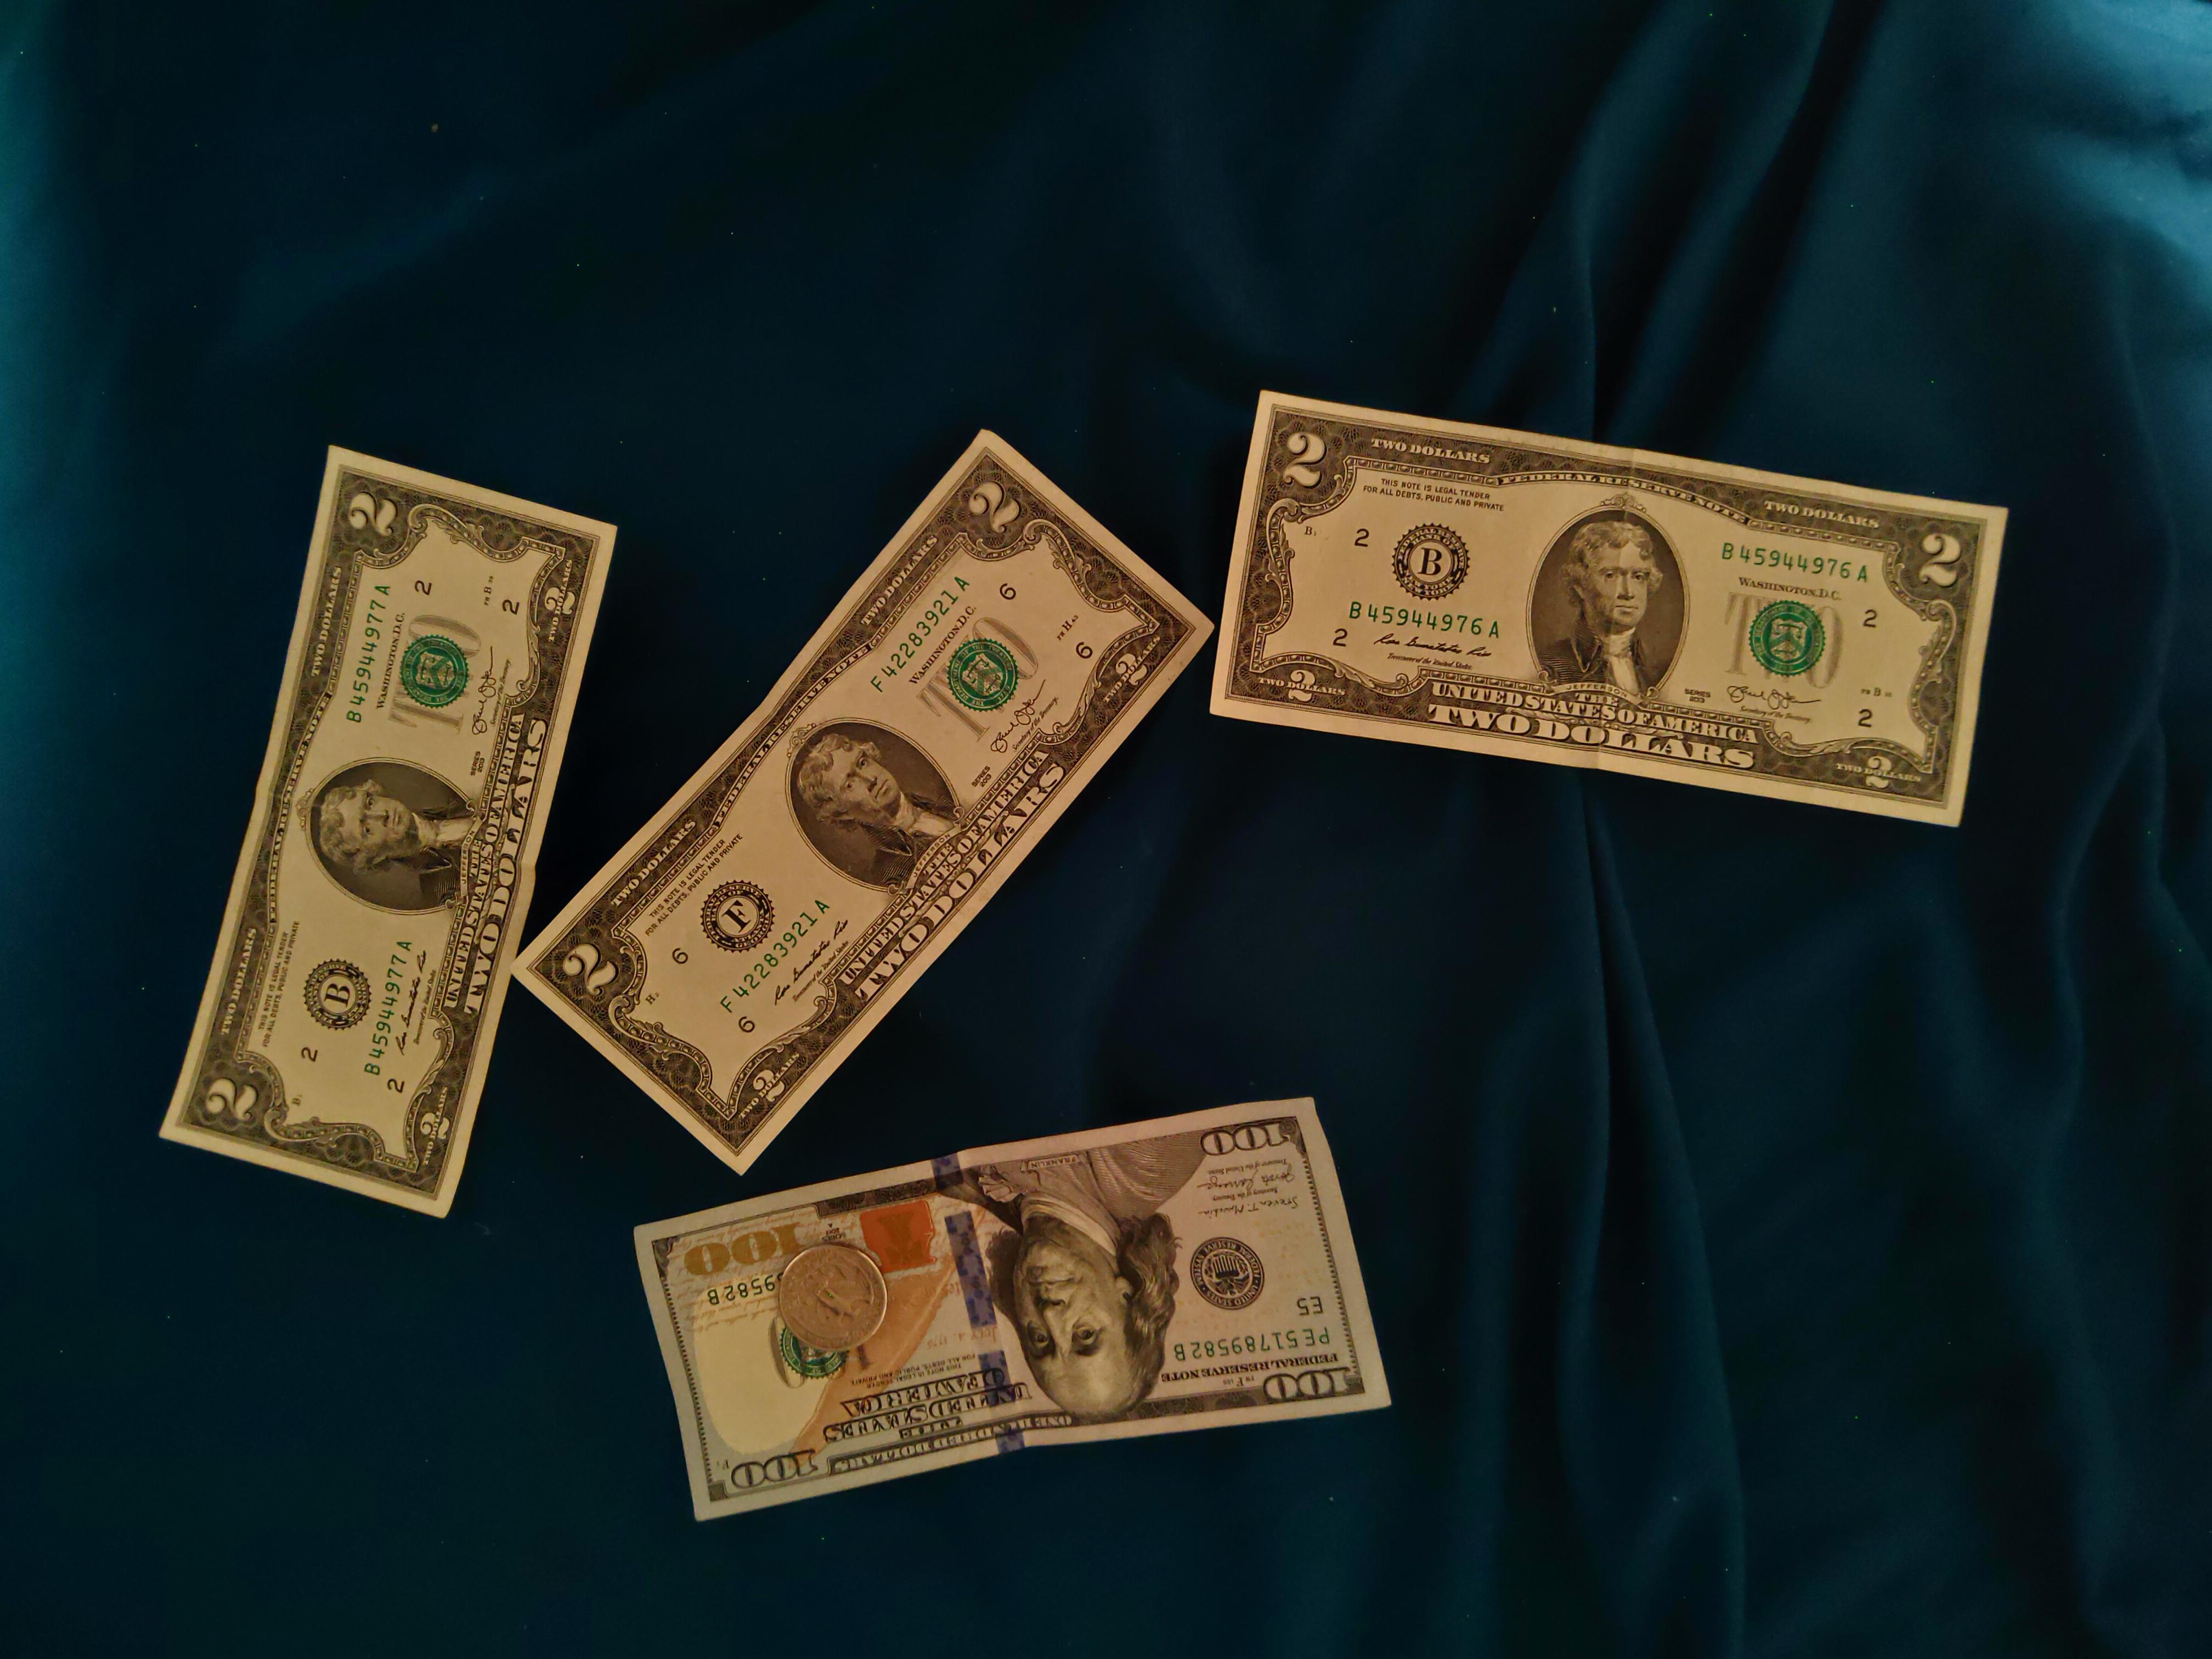HundredBill: (632, 1094, 1395, 1523)
Quarter: (777, 1243, 888, 1354)
TwoBill: (507, 425, 1216, 1178), (155, 439, 624, 1222), (1207, 387, 2012, 831)
